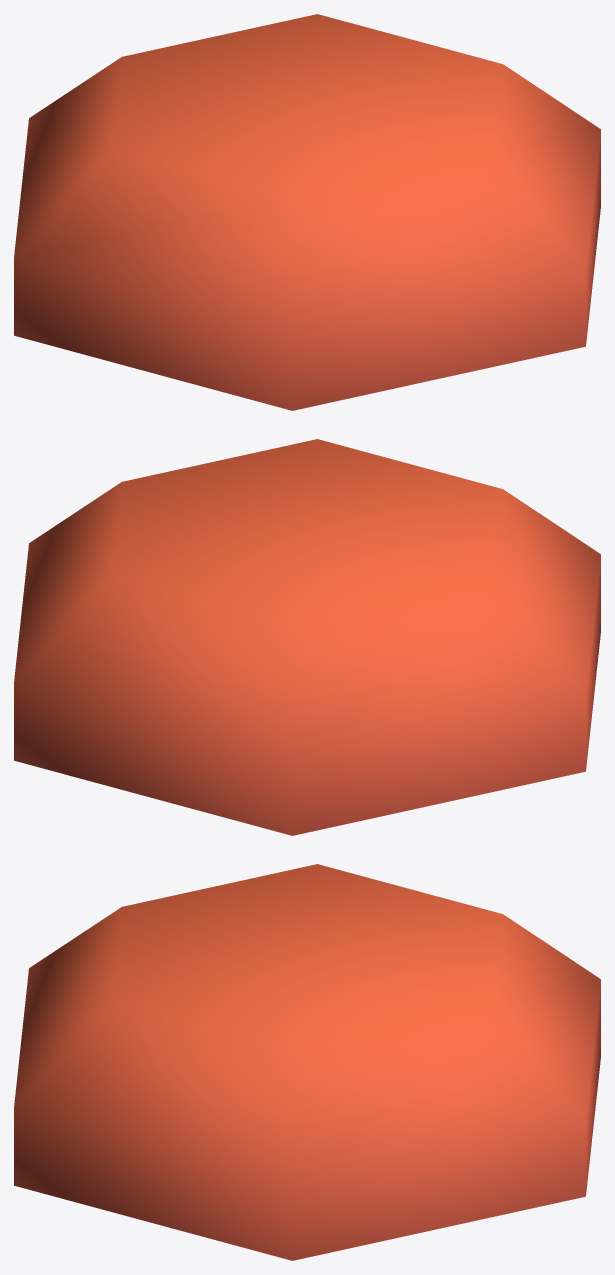
The model's file is n5_n5_n5_button_lev5.glb.
3 views of the same model, one above another, from view 1: azimuth 30°, elevation 25°; view 2: azimuth 150°, elevation 25°; view 3: azimuth 270°, elevation 25° (orthographic).
Visible parts, largest first — view 1: n5_n5_n5_button_lev5; view 2: n5_n5_n5_button_lev5; view 3: n5_n5_n5_button_lev5.
Part boxes in pixels (<box>): n5_n5_n5_button_lev5: <box>14,14,600,410</box>; n5_n5_n5_button_lev5: <box>14,439,600,835</box>; n5_n5_n5_button_lev5: <box>14,864,600,1260</box>.
Bounding box in the file's own units: 0.8793 × 0.2414 × 0.7815.
1 material, 1 textured.
